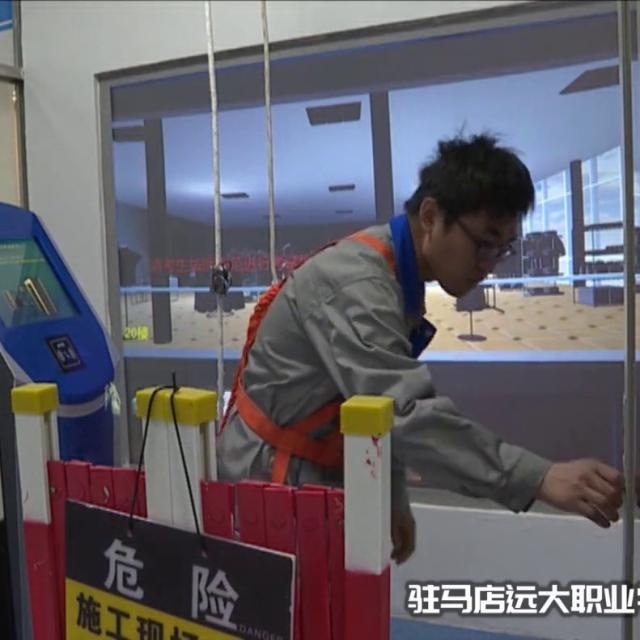Arnes_seguridad: (223, 226, 424, 471)
